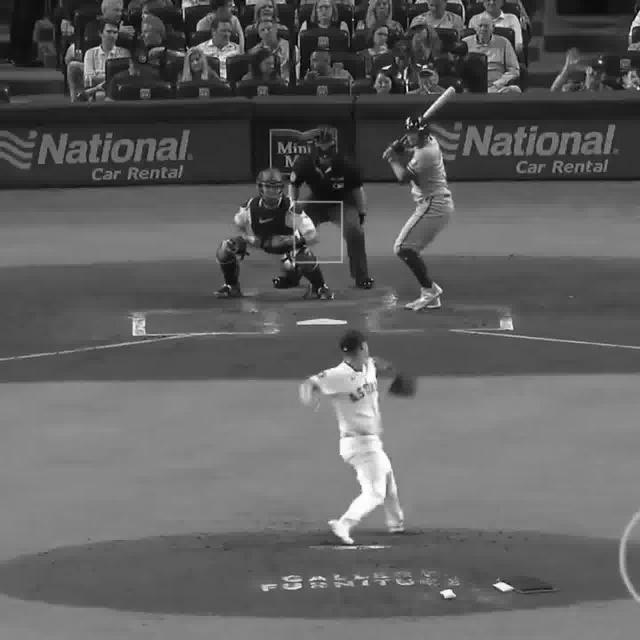base: (296, 316, 346, 330)
baseball_glove: (387, 371, 417, 399), (263, 233, 301, 252)
bat: (380, 80, 462, 159)
shoe: (412, 284, 442, 310), (330, 519, 353, 543), (276, 274, 302, 290), (314, 286, 338, 298), (218, 284, 244, 294), (388, 518, 404, 534), (360, 278, 378, 290)
